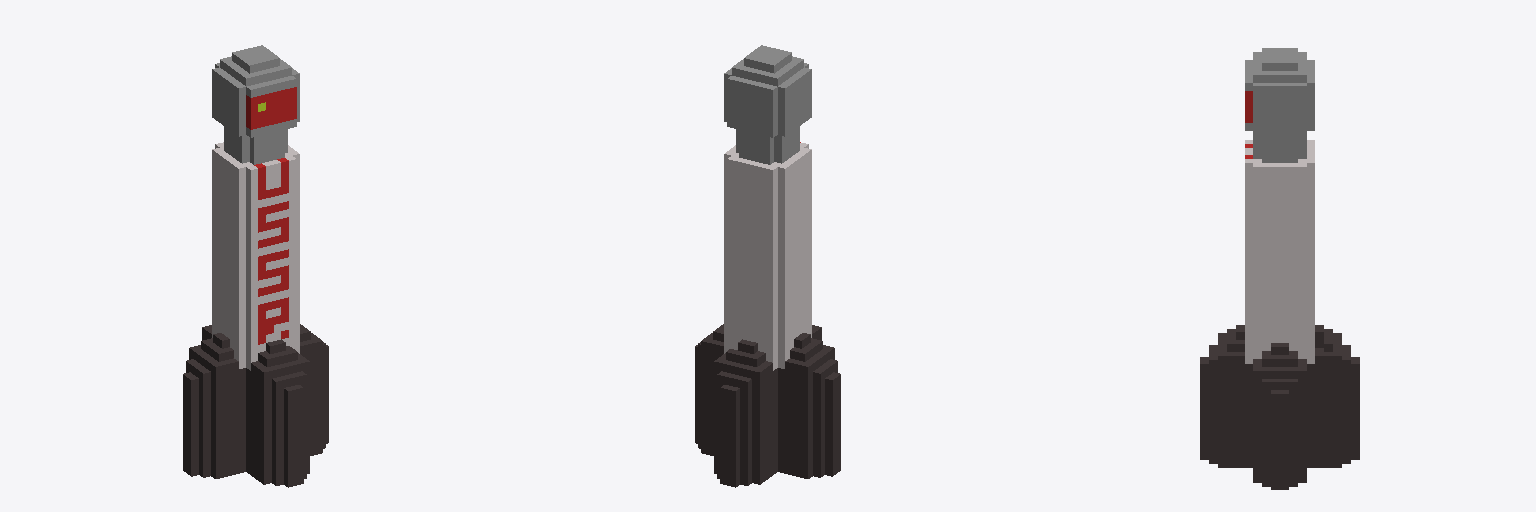
3 views of the same model, side by side, from view 1: azimuth 30°, elevation 25°; view 2: azimuth 150°, elevation 25°; view 3: azimuth 270°, elevation 25° (orthographic).
Visible parts, largest first — view 1: object 1; view 2: object 1; view 3: object 1.
Boxes of the visible parts, x1=… form: object 1: x1=183, y1=45, x2=328, y2=487; object 1: x1=695, y1=45, x2=840, y2=487; object 1: x1=1200, y1=48, x2=1359, y2=489.
Size of the model in its own units: 1.8 by 5 by 1.8.
Materials: 1 (1 with a texture image).